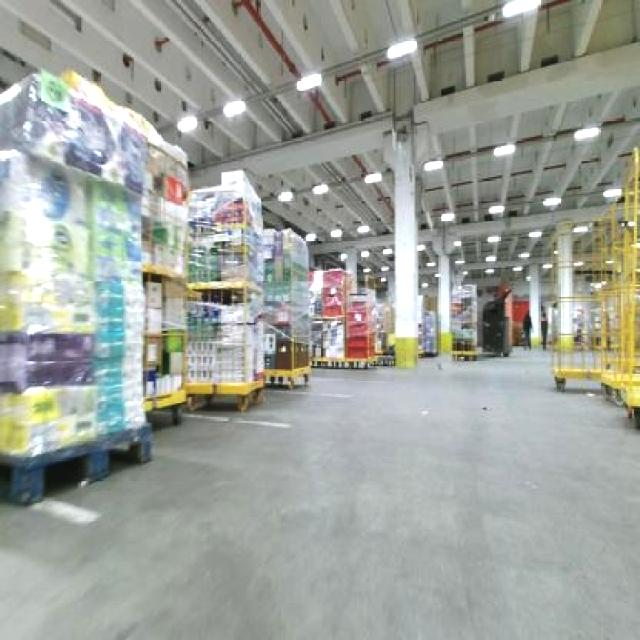floor: (0, 351, 637, 637)
pallets: (0, 69, 185, 500), (0, 71, 148, 500), (185, 169, 262, 408), (263, 228, 308, 385)
